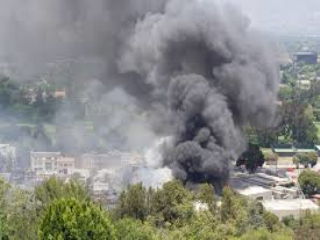smoke: (114, 6, 294, 193)
